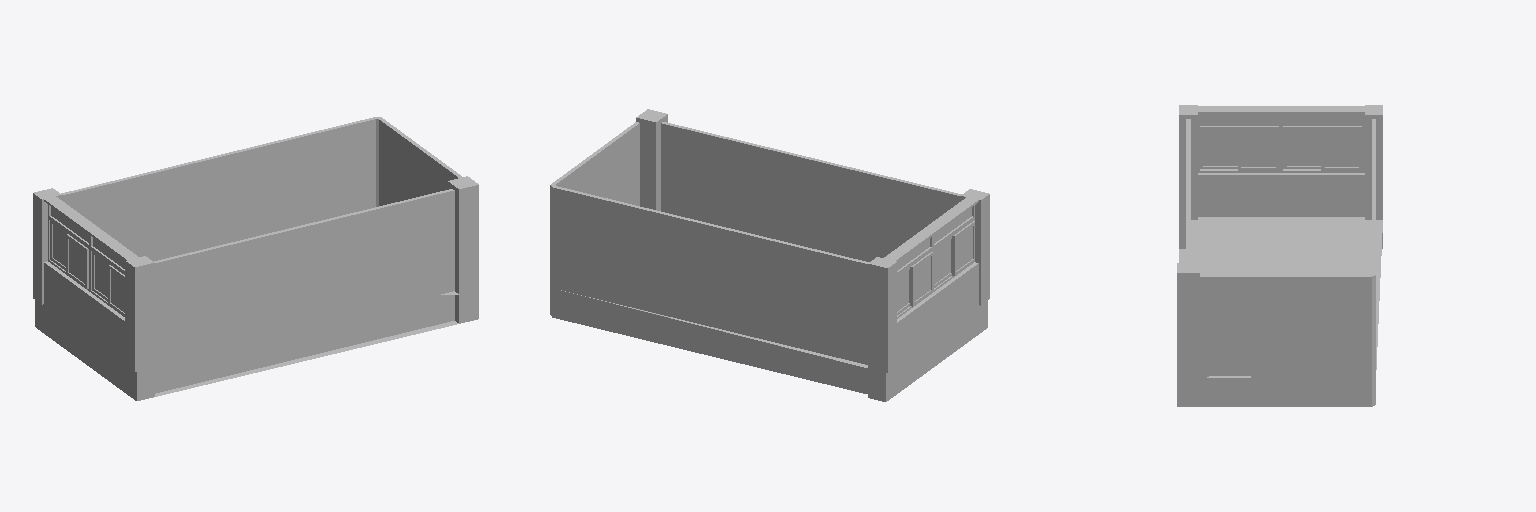
3 views of the same model, side by side, from view 1: azimuth 30°, elevation 25°; view 2: azimuth 150°, elevation 25°; view 3: azimuth 270°, elevation 25° (orthographic).
Parts seen in each view (by area): view 1: Mesh3 Group3 Model, Mesh1 Group1 Model, Mesh25 Group14 Model, Mesh2 Group2 Model, Mesh6 Group6 Model, Mesh5 Group5 Model, Mesh4 Group4 Model, Mesh16 Glazing3 Window_Sliding_Casement_4_1 Window_Sliding_2_1 G; view 2: Mesh1 Group1 Model, Mesh3 Group3 Model, Mesh25 Group14 Model, Mesh2 Group2 Model, Mesh4 Group4 Model, Mesh5 Group5 Model, Mesh6 Group6 Model, Mesh23 Glazing7 Window_Sliding_Casement_4_3 Window_Sliding_2_2 G, Mesh16 Glazing3 Window_Sliding_Casement_4_1 Window_Sliding_2_1 G, Mesh20 Glazing5 Window_Sliding_Casement_4_2 Window_Sliding_2_2 G; view 3: Mesh1 Group1 Model, Mesh25 Group14 Model, Mesh2 Group2 Model, Mesh6 Group6 Model, Mesh4 Group4 Model, Mesh22 Glazing6 Window_Sliding_Casement_4_3 Window_Sliding_2_2 G, Mesh15 Glazing2 Window_Sliding_Casement_4_1 Window_Sliding_2_1 G, Mesh19 Glazing4 Window_Sliding_Casement_4_2 Window_Sliding_2_2 G, Mesh5 Group5 Model, Mesh12 Glazing Window_Sliding_Casement_4 Window_Sliding_2_1 Grou, Mesh8 Group10 Group8 Group7 Model, Mesh10 Group13 Group11 Group7 Model (+3 smaller).
Boxes of the visible parts, x1=… form: Mesh3 Group3 Model: x1=154, y1=189, x2=454, y2=363; Mesh1 Group1 Model: x1=61, y1=117, x2=478, y2=290; Mesh25 Group14 Model: x1=149, y1=290, x2=478, y2=397; Mesh2 Group2 Model: x1=35, y1=190, x2=148, y2=400; Mesh6 Group6 Model: x1=125, y1=256, x2=154, y2=371; Mesh5 Group5 Model: x1=448, y1=176, x2=478, y2=294; Mesh4 Group4 Model: x1=33, y1=188, x2=61, y2=304; Mesh16 Glazing3 Window_Sliding_Casement_4_1 Window_Sliding_2_1 G: x1=69, y1=239, x2=84, y2=283; Mesh1 Group1 Model: x1=550, y1=122, x2=868, y2=364; Mesh3 Group3 Model: x1=661, y1=122, x2=961, y2=261; Mesh25 Group14 Model: x1=550, y1=285, x2=873, y2=398; Mesh2 Group2 Model: x1=874, y1=191, x2=987, y2=401; Mesh4 Group4 Model: x1=868, y1=257, x2=896, y2=372; Mesh5 Group5 Model: x1=636, y1=109, x2=667, y2=210; Mesh6 Group6 Model: x1=961, y1=189, x2=989, y2=305; Mesh23 Glazing7 Window_Sliding_Casement_4_3 Window_Sliding_2_2 G: x1=956, y1=226, x2=972, y2=270; Mesh16 Glazing3 Window_Sliding_Casement_4_1 Window_Sliding_2_1 G: x1=915, y1=257, x2=930, y2=300; Mesh20 Glazing5 Window_Sliding_Casement_4_2 Window_Sliding_2_2 G: x1=935, y1=240, x2=950, y2=283; Mesh1 Group1 Model: x1=1177, y1=119, x2=1375, y2=377; Mesh25 Group14 Model: x1=1177, y1=217, x2=1382, y2=406; Mesh2 Group2 Model: x1=1179, y1=106, x2=1382, y2=216; Mesh6 Group6 Model: x1=1179, y1=105, x2=1197, y2=219; Mesh4 Group4 Model: x1=1365, y1=105, x2=1382, y2=219; Mesh22 Glazing6 Window_Sliding_Casement_4_3 Window_Sliding_2_2 G: x1=1203, y1=132, x2=1237, y2=165; Mesh15 Glazing2 Window_Sliding_Casement_4_1 Window_Sliding_2_1 G: x1=1287, y1=132, x2=1320, y2=165; Mesh19 Glazing4 Window_Sliding_Casement_4_2 Window_Sliding_2_2 G: x1=1241, y1=134, x2=1275, y2=166; Mesh5 Group5 Model: x1=1177, y1=263, x2=1199, y2=377; Mesh12 Glazing Window_Sliding_Casement_4 Window_Sliding_2_1 Grou: x1=1325, y1=134, x2=1358, y2=166; Mesh8 Group10 Group8 Group7 Model: x1=1283, y1=114, x2=1361, y2=125; Mesh10 Group13 Group11 Group7 Model: x1=1200, y1=114, x2=1278, y2=125.
Size of the model in its own units: 8.55 by 3.2 by 4.45.